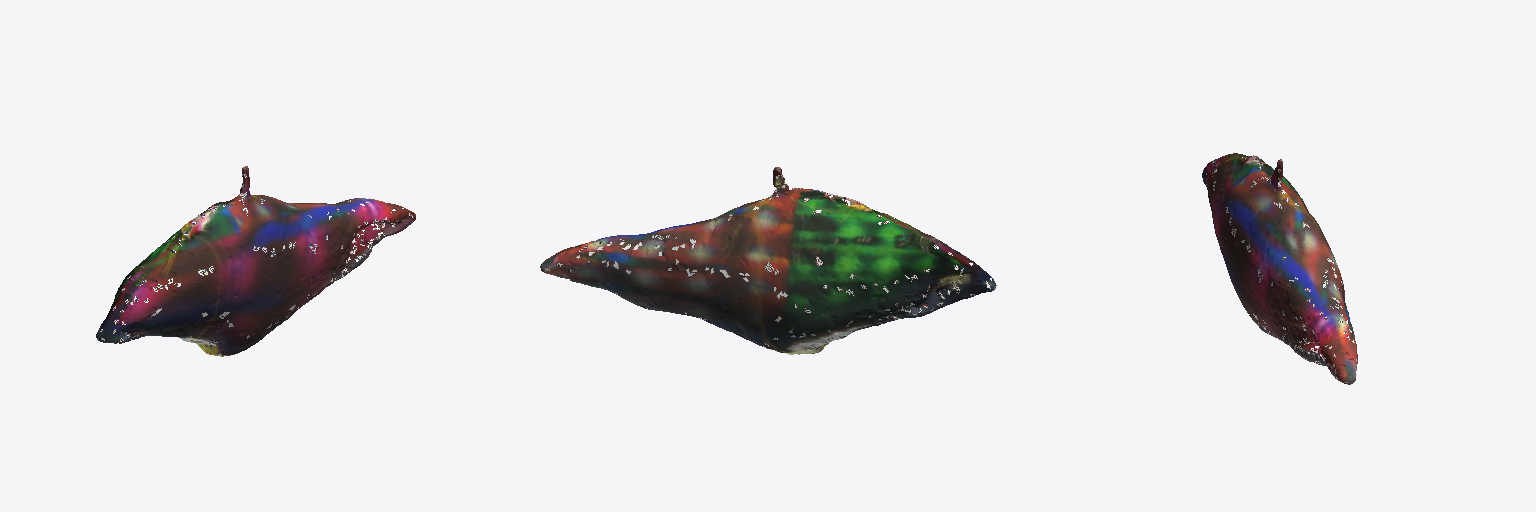
The picture shows the model from 3 angles: view 1: azimuth 30°, elevation 25°; view 2: azimuth 150°, elevation 25°; view 3: azimuth 270°, elevation 25°; orthographic projection.
Parts seen in each view (by area): view 1: shark_attack_v2; view 2: shark_attack_v2; view 3: shark_attack_v2.
Part boxes in pixels (bbox=[...]): shark_attack_v2: bbox=[96, 166, 415, 356]; shark_attack_v2: bbox=[540, 167, 996, 354]; shark_attack_v2: bbox=[1202, 153, 1357, 384].
Size of the model in its own units: 12 by 5.45 by 4.2.
Materials: 1 (1 with a texture image).